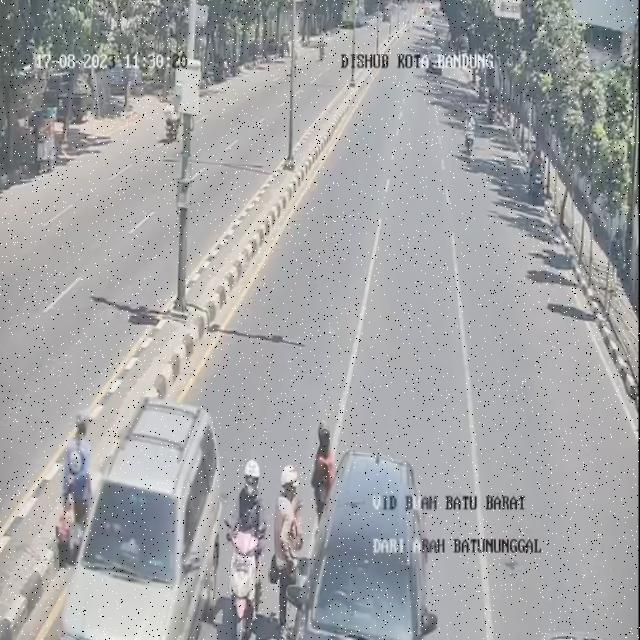cars: (59, 397, 213, 636), (297, 454, 436, 640)
motorcycle: (232, 460, 270, 640), (464, 112, 476, 161)
